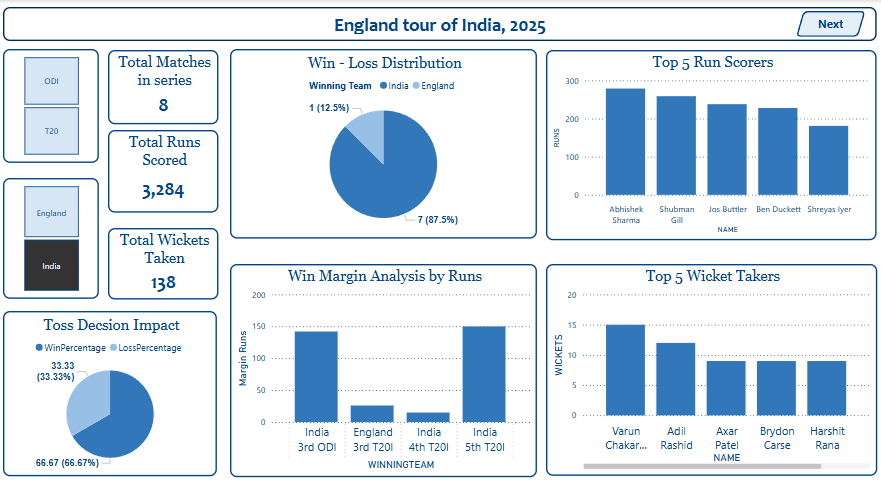

The page's visual inventory and layout, read from the dashboard file:
{"tool":"powerbi","page":{"name":" Overview Dashboard","canvas":[1280,720],"ordinal":0},"visuals":[{"type":"card","fields":{"Values":["Min(SERIES_MAIN.SERIESDESC)"]},"box":[11.8,10,1258.2,49.1],"z":0},{"type":"columnChart","title":"Top 5 Wicket Takers ","fields":{"Y":["Sum(BOWLINGPERFORMANCE_MAIN.WICKETS)"],"Category":["TEAM_PLAYERS_MAIN.NAME"]},"box":[793.3,380,476.7,305],"z":2000},{"type":"columnChart","title":"Top 5 Run Scorers","fields":{"Y":["Sum(BATTINGPERFORMANCE_MAIN.RUNS)"],"Category":["TEAM_PLAYERS_MAIN.NAME"]},"box":[792.9,72.1,476.4,273.6],"z":3000},{"type":"pieChart","title":"Win - Loss Distribution ","fields":{"Y":["CountNonNull(MATCHES_MAIN.WINNINGTEAMID)"],"Category":["MATCHES_MAIN.WINNINGTEAM"]},"box":[338.3,70,441.7,273.3],"z":4000},{"type":"card","title":"Total Matches in series","fields":{"Values":["Messure.TotalMatches"]},"box":[162.2,72.2,158.9,106.7],"z":5000},{"type":"card","title":"Total Runs Scored","fields":{"Values":["Sum(INNINGS_MAIN.TOTALRUNS)"]},"box":[162.2,186.7,158.9,118.9],"z":6000},{"type":"card","title":"Total Wickets Taken","fields":{"Values":["Sum(INNINGS_MAIN.TOTALWICKETS)"]},"box":[162.2,327.8,158.9,103.3],"z":7000},{"type":"slicer","title":"Match Type","fields":{"Values":["MATCHES_MAIN.format"]},"box":[12.2,70,137.8,164.4],"z":8000},{"type":"columnChart","title":"Win Margin Analysis by Runs","fields":{"Category":["MATCHES_MAIN.MATCHDESCRIPTION","MATCHES_MAIN.WINNINGTEAM"],"Y":["Sum(MATCHES_MAIN.WinningMarginRuns)"]},"box":[338.3,380,441.7,306.7],"z":9000},{"type":"slicer","title":"Winning Team","fields":{"Values":["MATCHES_MAIN.TOSSWINNERNAME"]},"box":[12.2,256.7,137.8,174.4],"z":10000},{"type":"pieChart","title":"Toss Decsion Impact ","fields":{"Y":["MATCHES_MAIN.WinPercentage","MATCHES_MAIN.LossPercentage"]},"box":[11.7,448.3,308.3,238.3],"z":11000},{"type":"actionButton","box":[1152.8,16.1,100,37.2],"z":13000}]}

Visuals, with their boxes in screenshot pixels (x1, y1, x2, y2), scaled from the page's 1280x720 canvas onto the 881x485 screenshot:
card - Min(SERIES_MAIN.SERIESDESC): region(8, 7, 874, 40)
"Top 5 Wicket Takers " columnChart: region(546, 256, 874, 461)
"Top 5 Run Scorers" columnChart: region(546, 49, 874, 233)
"Win - Loss Distribution " pieChart: region(233, 47, 537, 231)
"Total Matches in series" card: region(112, 49, 221, 121)
"Total Runs Scored" card: region(112, 126, 221, 206)
"Total Wickets Taken" card: region(112, 221, 221, 290)
"Match Type" slicer: region(8, 47, 103, 158)
"Win Margin Analysis by Runs" columnChart: region(233, 256, 537, 463)
"Winning Team" slicer: region(8, 173, 103, 290)
"Toss Decsion Impact " pieChart: region(8, 302, 220, 463)
actionButton: region(793, 11, 862, 36)
